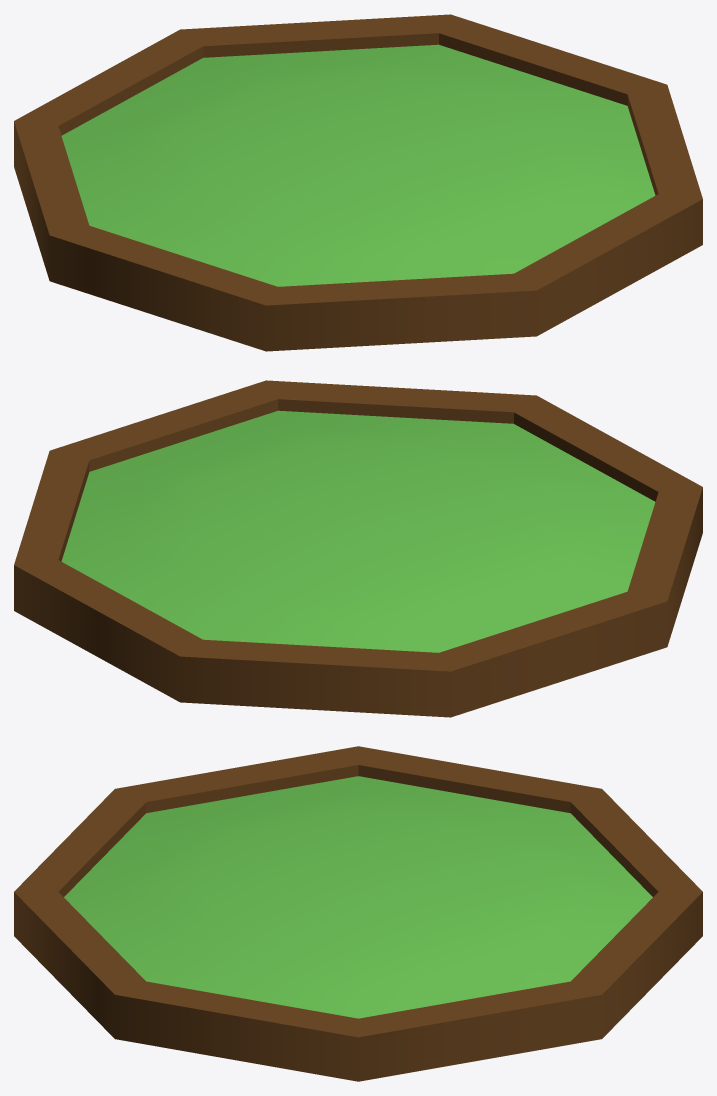
The model's file is medalion3.fbx.
The picture shows the model from 3 angles, top to bottom: view 1: azimuth 30°, elevation 25°; view 2: azimuth 150°, elevation 25°; view 3: azimuth 270°, elevation 25°; orthographic projection. The views are drawn at different scales.
Visible parts, largest first — view 1: medalion; view 2: medalion; view 3: medalion.
Boxes of the visible parts, box(x1,y1,x2,y2) form: medalion: box(14, 14, 702, 351); medalion: box(14, 380, 702, 717); medalion: box(14, 746, 702, 1081).
Bounding box in the file's own units: 36.75 × 3.53 × 36.75.
